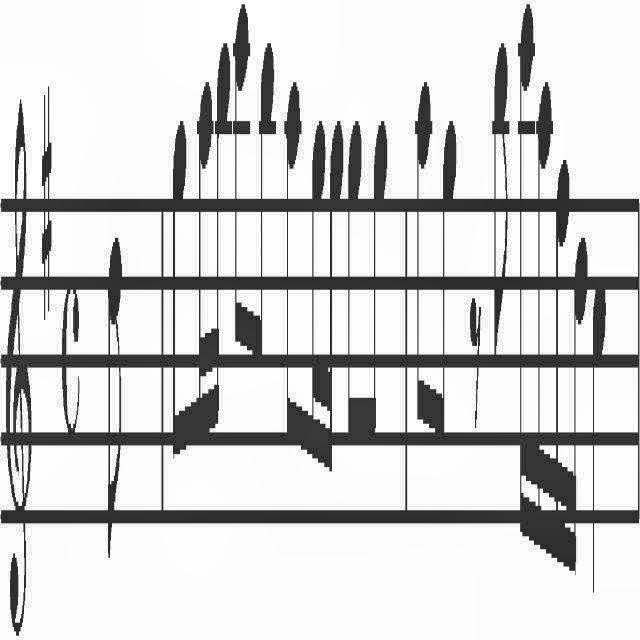Bass-clef: (4, 98, 32, 640)
Diez: (40, 83, 52, 324)
Eighth-note: (363, 106, 389, 467), (434, 120, 458, 452), (252, 39, 276, 361), (170, 103, 188, 483), (106, 216, 124, 586), (286, 78, 302, 454), (233, 6, 250, 358), (416, 74, 432, 446), (346, 110, 362, 458), (493, 34, 509, 378)
Quarter-note: (592, 274, 606, 596)
Sixteenth-note: (518, 2, 534, 558), (536, 79, 552, 577), (552, 151, 570, 581), (213, 42, 230, 454), (196, 76, 214, 464), (569, 226, 587, 598), (326, 117, 344, 475), (308, 115, 326, 471)
